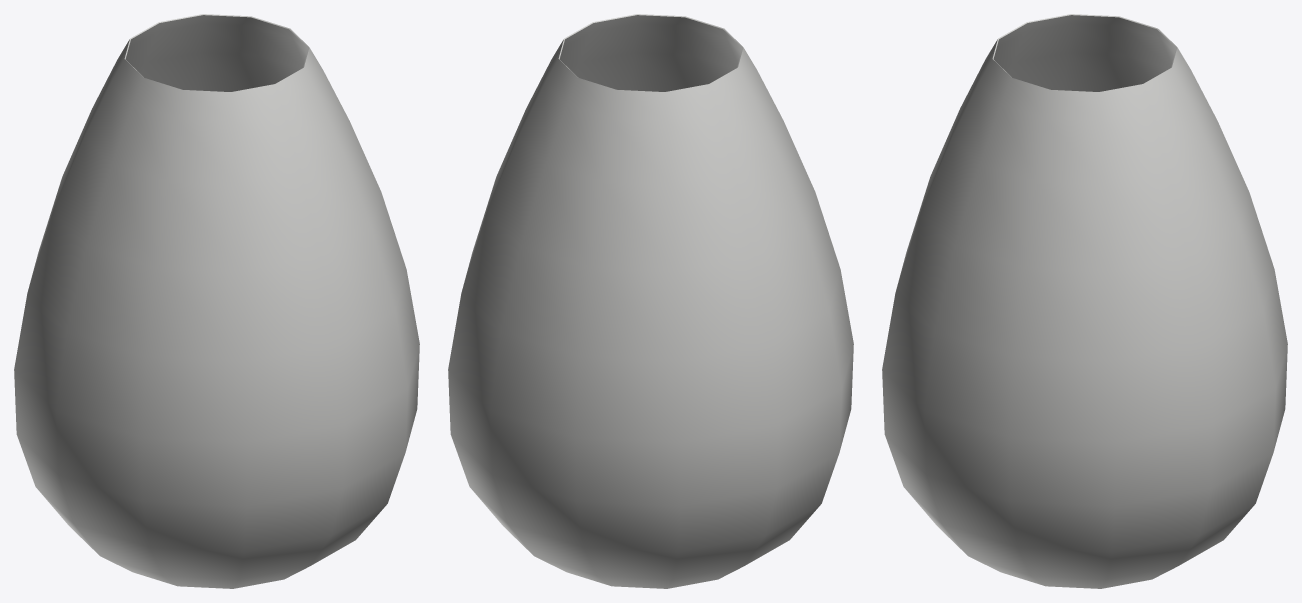
Rendered from SmallWhitePots007.FBX.
3 views of the same model, side by side, from view 1: azimuth 30°, elevation 25°; view 2: azimuth 150°, elevation 25°; view 3: azimuth 270°, elevation 25° (orthographic).
Visible parts, largest first — view 1: SmallWhitePots007; view 2: SmallWhitePots007; view 3: SmallWhitePots007.
Boxes of the visible parts, x1,y1,x2,y2 form: SmallWhitePots007: (14, 14, 419, 588); SmallWhitePots007: (448, 14, 853, 588); SmallWhitePots007: (882, 14, 1287, 588).
Bounding box in the file's own units: 0.4536 × 0.6186 × 0.4536.
1 material, 1 textured.
